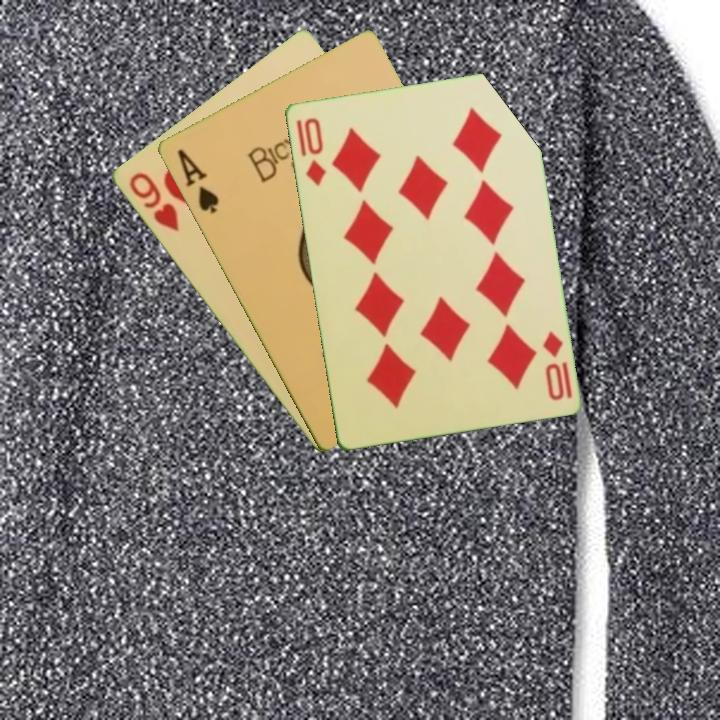10d: (539, 327, 567, 403), (300, 114, 328, 189)
9h: (124, 168, 182, 234)
As: (173, 145, 222, 217)
